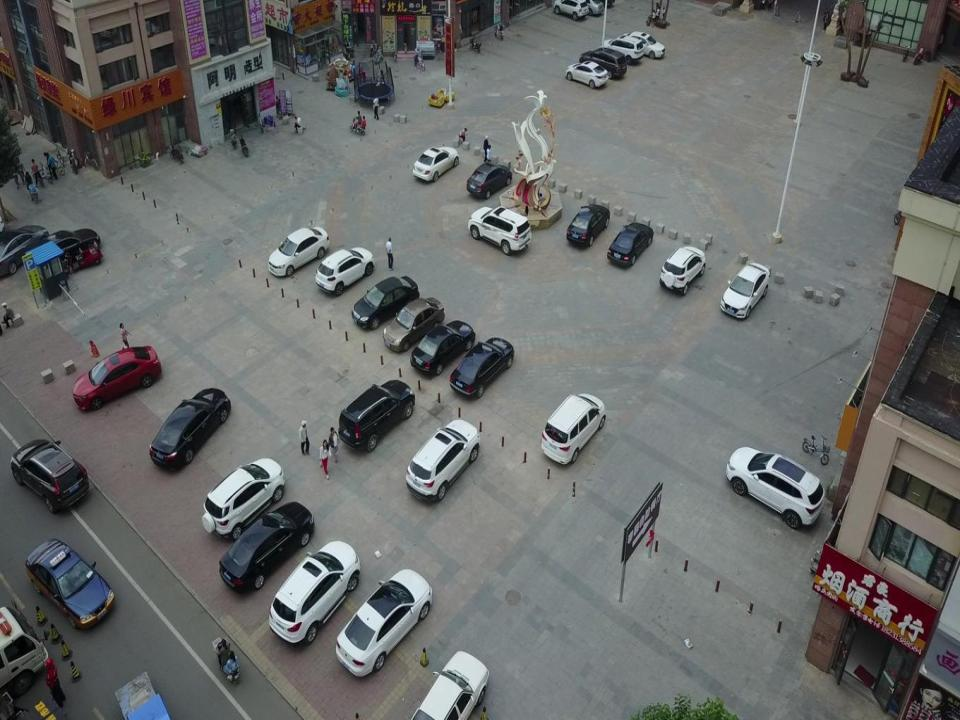car: (334, 566, 433, 680), (268, 539, 360, 646), (218, 500, 314, 593), (724, 444, 826, 528), (21, 538, 114, 630), (201, 456, 285, 540), (149, 386, 232, 470), (405, 417, 480, 503), (404, 648, 491, 720), (9, 437, 90, 514), (72, 344, 161, 413), (337, 377, 415, 451), (541, 390, 606, 466), (449, 336, 515, 398), (381, 294, 447, 354), (350, 274, 420, 329), (409, 318, 476, 375), (266, 224, 330, 279), (466, 204, 533, 254), (30, 227, 102, 273), (720, 260, 771, 322), (314, 244, 375, 294), (0, 223, 49, 279), (658, 244, 706, 296), (606, 220, 655, 268), (566, 202, 610, 250), (411, 142, 460, 185), (465, 160, 513, 200), (578, 48, 628, 78), (618, 30, 666, 59), (565, 60, 610, 88), (601, 36, 646, 62), (554, 0, 590, 21)
